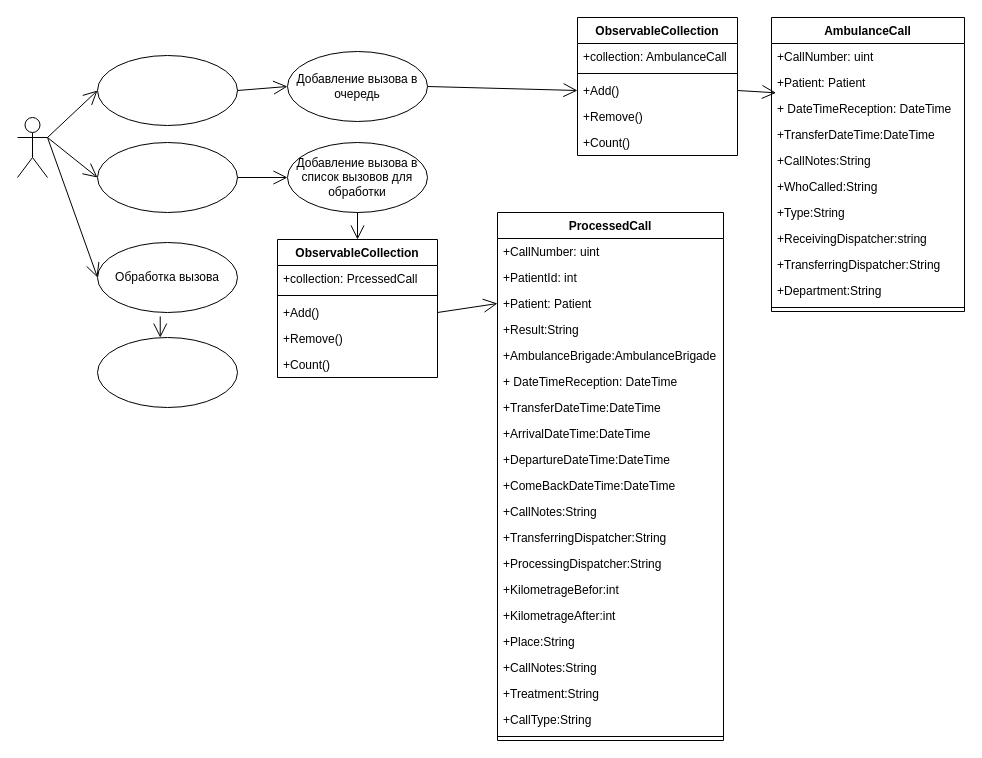
Some shapes in this 982 by 758 pixel diagram are drawn without their labels. Each missing label, with the centre of its shape:
"Actor" belongs at [32,147].
"Добавление его в БД" belongs at [167,372].
"Передача вызова бригаде" belongs at [167,177].
"регистрация вызова" belongs at [167,90].
